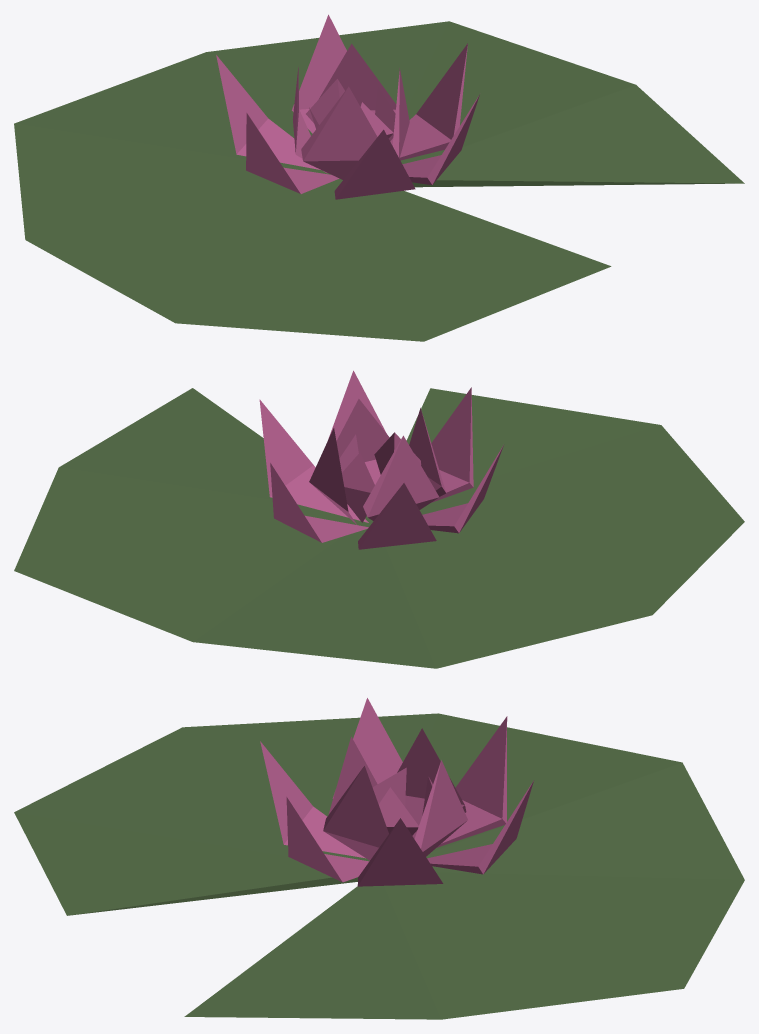
Rendered from Lilypad.lod2.glb.
3 renders of one model, top to bottom at view 1: azimuth 30°, elevation 25°; view 2: azimuth 150°, elevation 25°; view 3: azimuth 270°, elevation 25°, orthographic. The views are drawn at different scales.
Visible parts, largest first — view 1: Lilypad; view 2: Lilypad; view 3: Lilypad.
Boxes of the visible parts, x1,y1,x2,y2 form: Lilypad: (14, 14, 744, 341); Lilypad: (14, 370, 744, 668); Lilypad: (14, 698, 744, 1019).
Bounding box in the file's own units: 1.2 × 0.2236 × 1.19.
